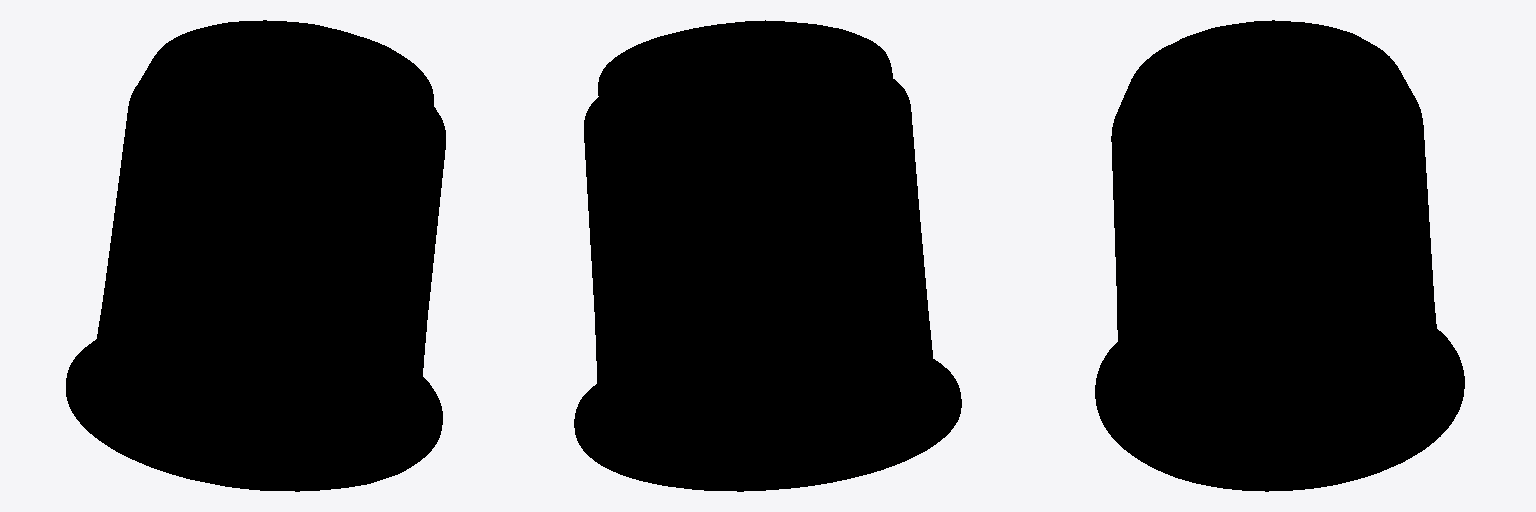
The robot description file, URDF, robot "graspnet-022":

<robot name="graspnet-022">
  <link name="link_graspnet-022">
    <inertial>
      <origin xyz="0 0 0" rpy="0 0 0"/>
    </inertial>
    <visual>
      <origin xyz="0 0 0" rpy="0 0 0"/>
      <geometry>
        <mesh filename="decomposed.obj"/>
      </geometry>
      <material name="">
        <color rgba="0 0 0 1"/>
      </material>
    </visual>
    <collision>
      <origin xyz="0 0 0" rpy="0 0 0"/>
      <geometry>
        <mesh filename="decomposed.obj"/>
      </geometry>
    </collision>
  </link>
</robot>

--- Facts derived from the render (not from the file) ---
The picture shows the robot from 3 angles, left to right: view 1: azimuth 30°, elevation 25°; view 2: azimuth 150°, elevation 25°; view 3: azimuth 270°, elevation 25°; orthographic projection.
Model graspnet-022 with 1 links and 0 joints (none), rooted at link_graspnet-022, posed all joints at 0.
Links seen in each view (by area): view 1: link_graspnet-022; view 2: link_graspnet-022; view 3: link_graspnet-022.
Boxes of the visible links, <box> form: link_graspnet-022: <box>66,20,445,491</box>; link_graspnet-022: <box>574,20,961,491</box>; link_graspnet-022: <box>1095,20,1464,491</box>.
Bounding box of the posed robot: 0.071 × 0.0711 × 0.0756 m (x, y, z).
Meshes: 1 distinct files referenced, 1 mesh visuals loaded (1 OBJ).
